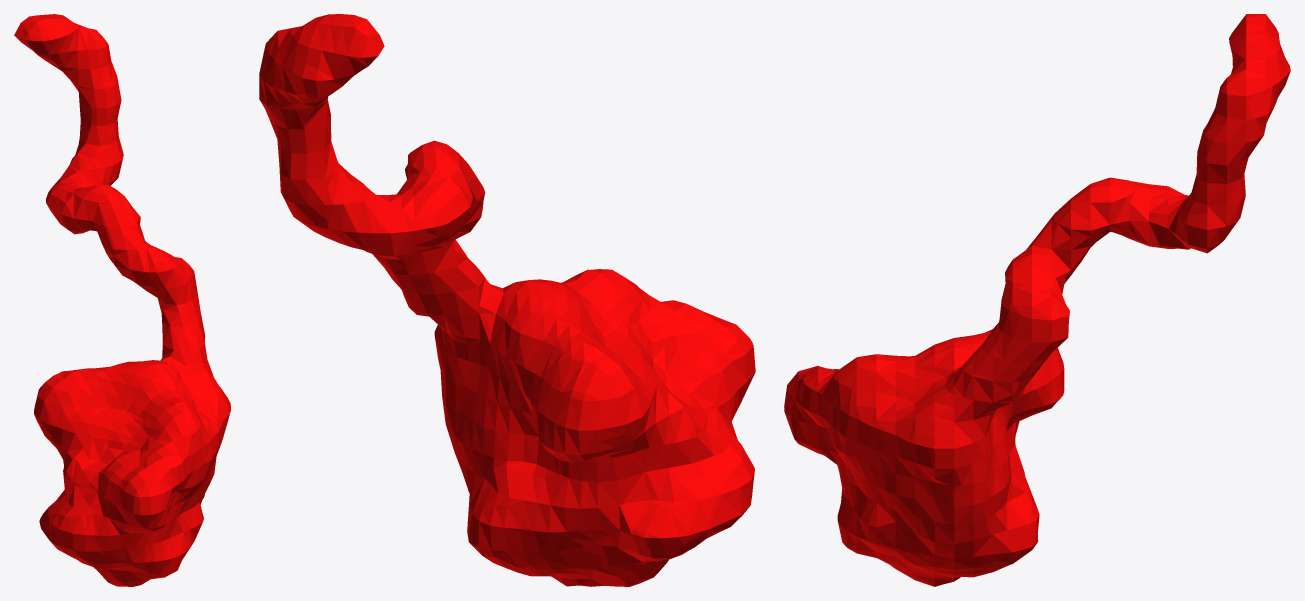
The model's file is ykgG_coarse.dae.
3 views of the same model, side by side, from view 1: azimuth 30°, elevation 25°; view 2: azimuth 150°, elevation 25°; view 3: azimuth 270°, elevation 25° (orthographic). The views are drawn at different scales.
Parts seen in each view (by area): view 1: ykgG; view 2: ykgG; view 3: ykgG.
Part boxes in pixels (x1,y1,x2,y2): ykgG: (14,14,230,586); ykgG: (259,14,755,586); ykgG: (784,14,1290,586).
Size of the model in its own units: 48.54 by 111 by 86.89.
